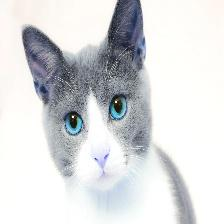kedo: (22, 0, 197, 224)
